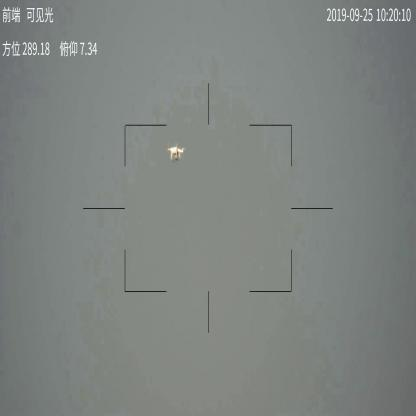uav: (164, 142, 185, 164)
